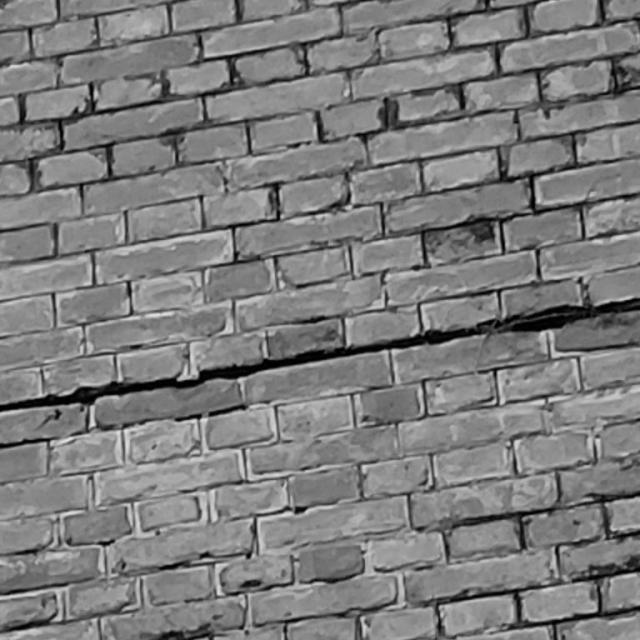crack: (1, 298, 638, 412)
